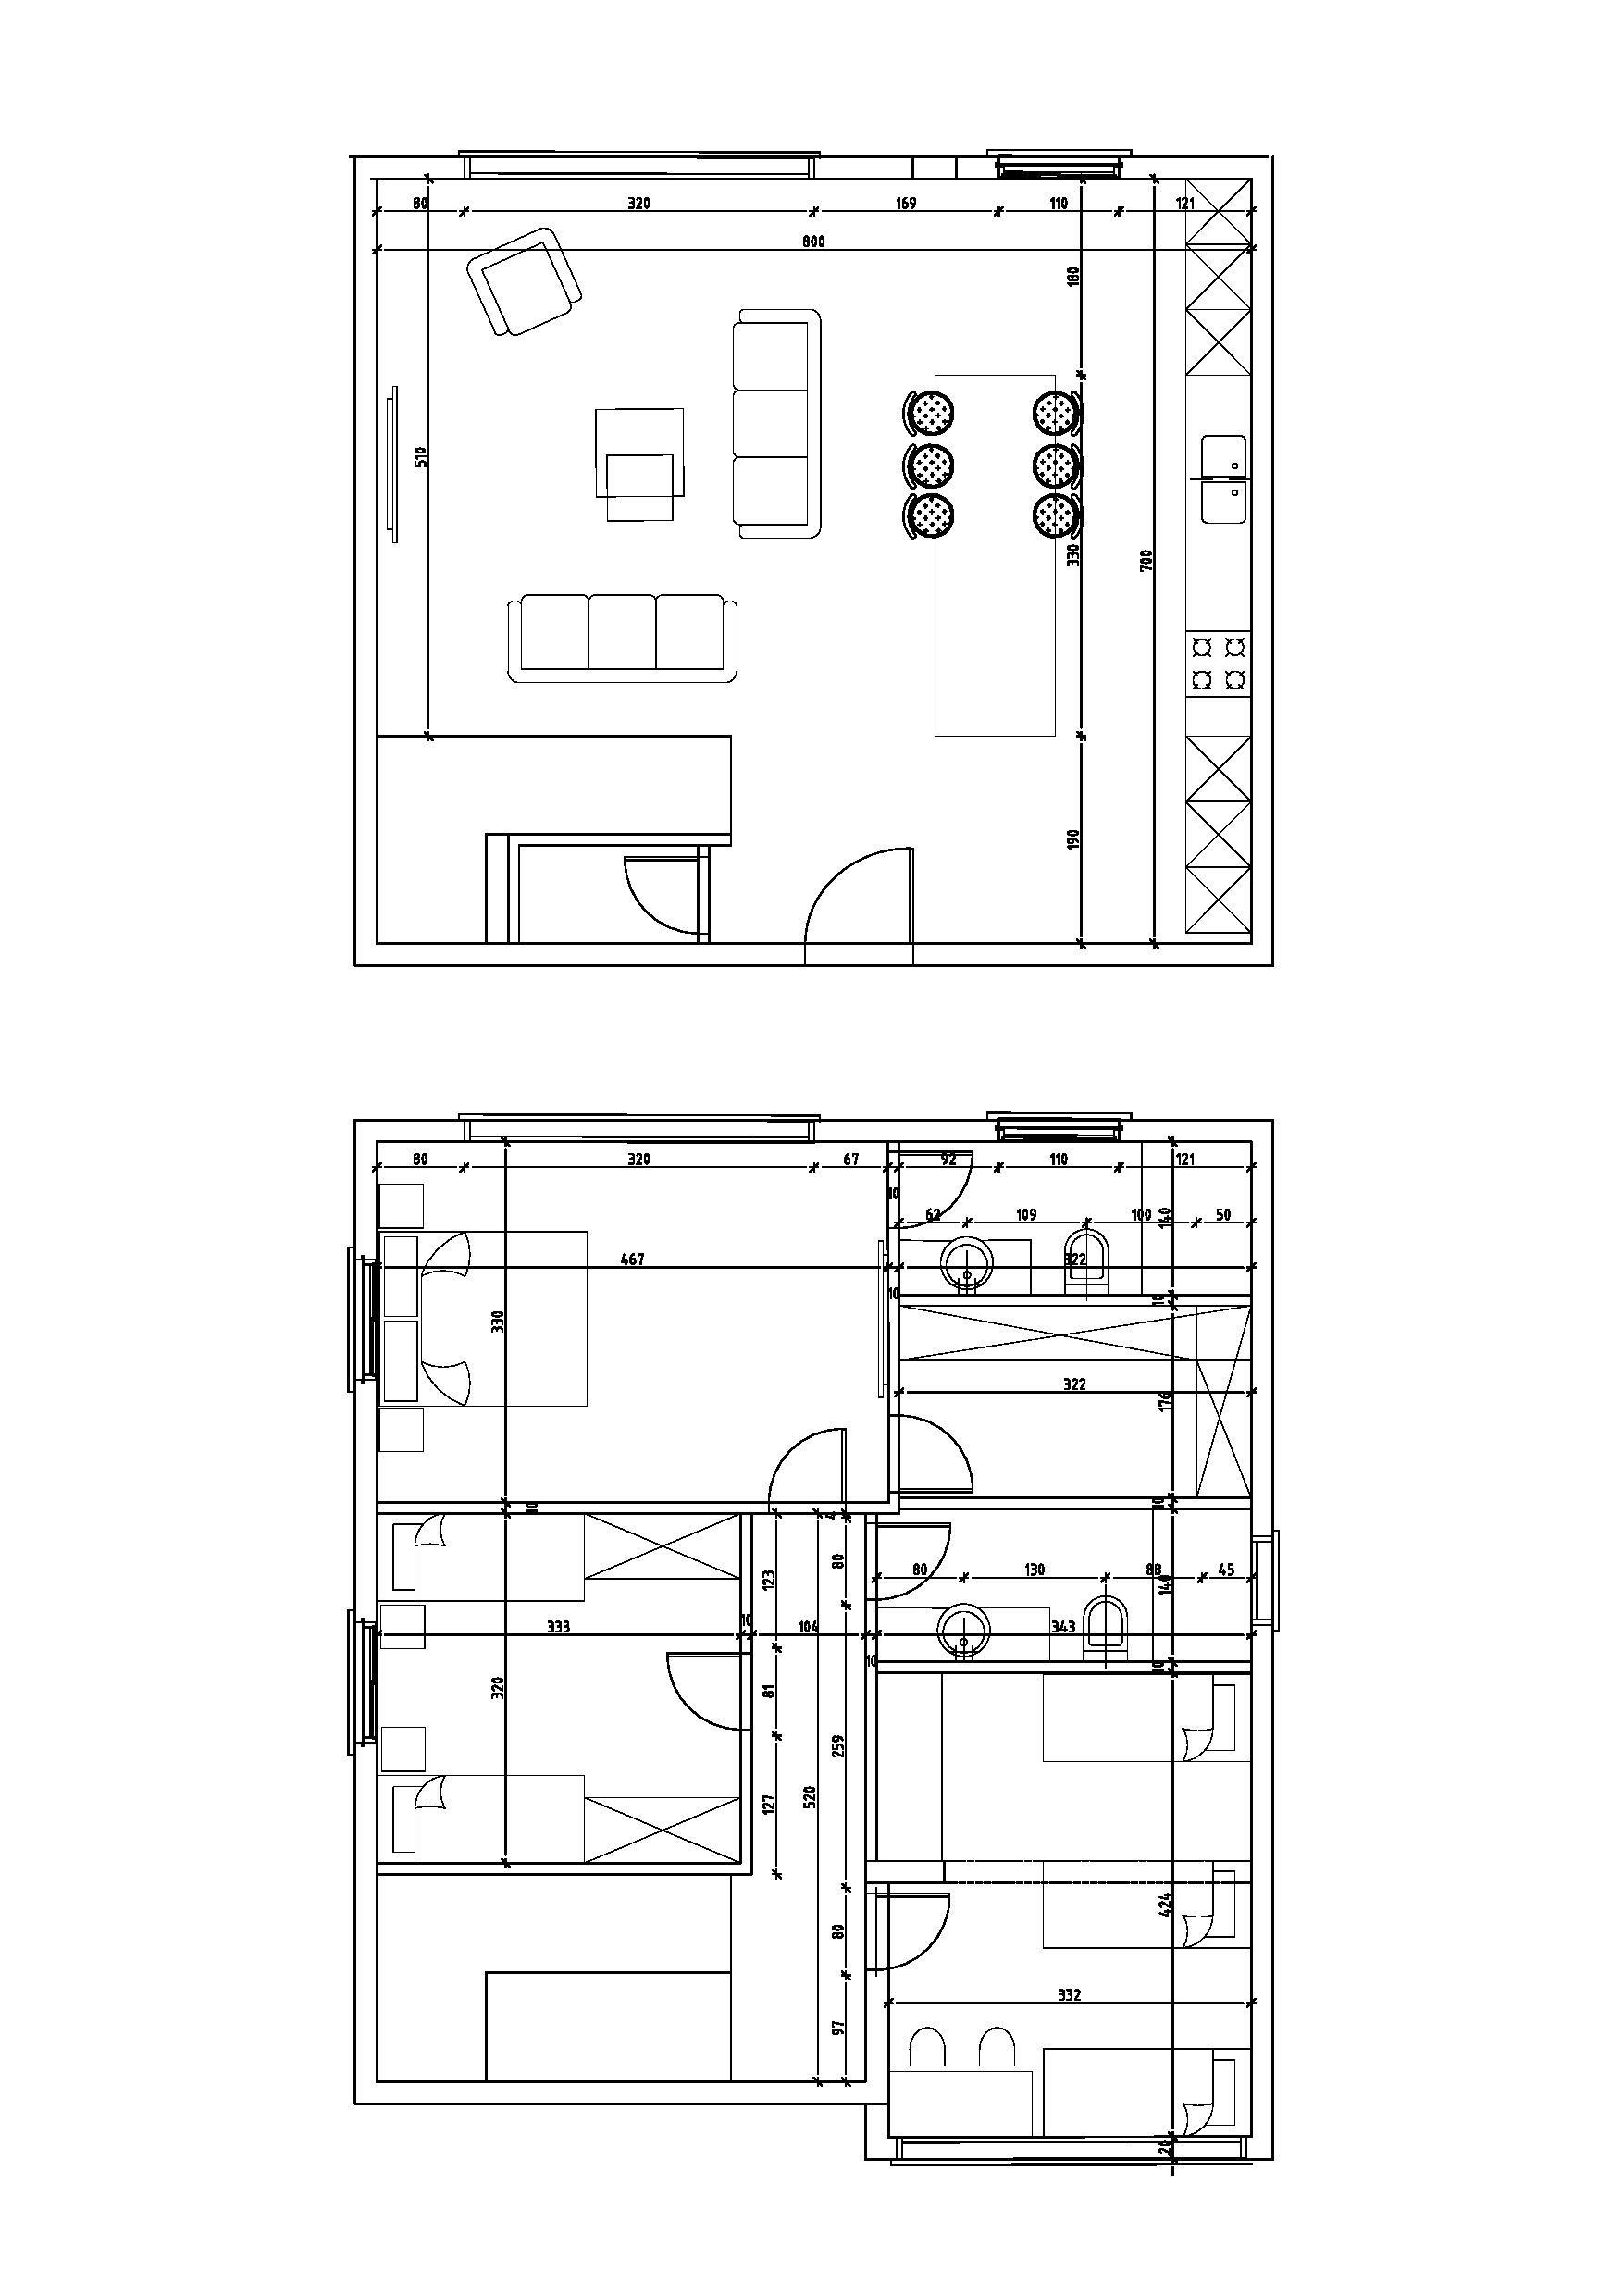door: (796, 840, 920, 942), (766, 1419, 855, 1502), (659, 1648, 741, 1732), (901, 1409, 982, 1495), (617, 850, 694, 940), (894, 1887, 968, 1975)
window: (462, 1112, 820, 1145), (991, 1108, 1124, 1144), (996, 149, 1128, 184), (346, 1618, 378, 1746), (348, 1254, 378, 1386)
